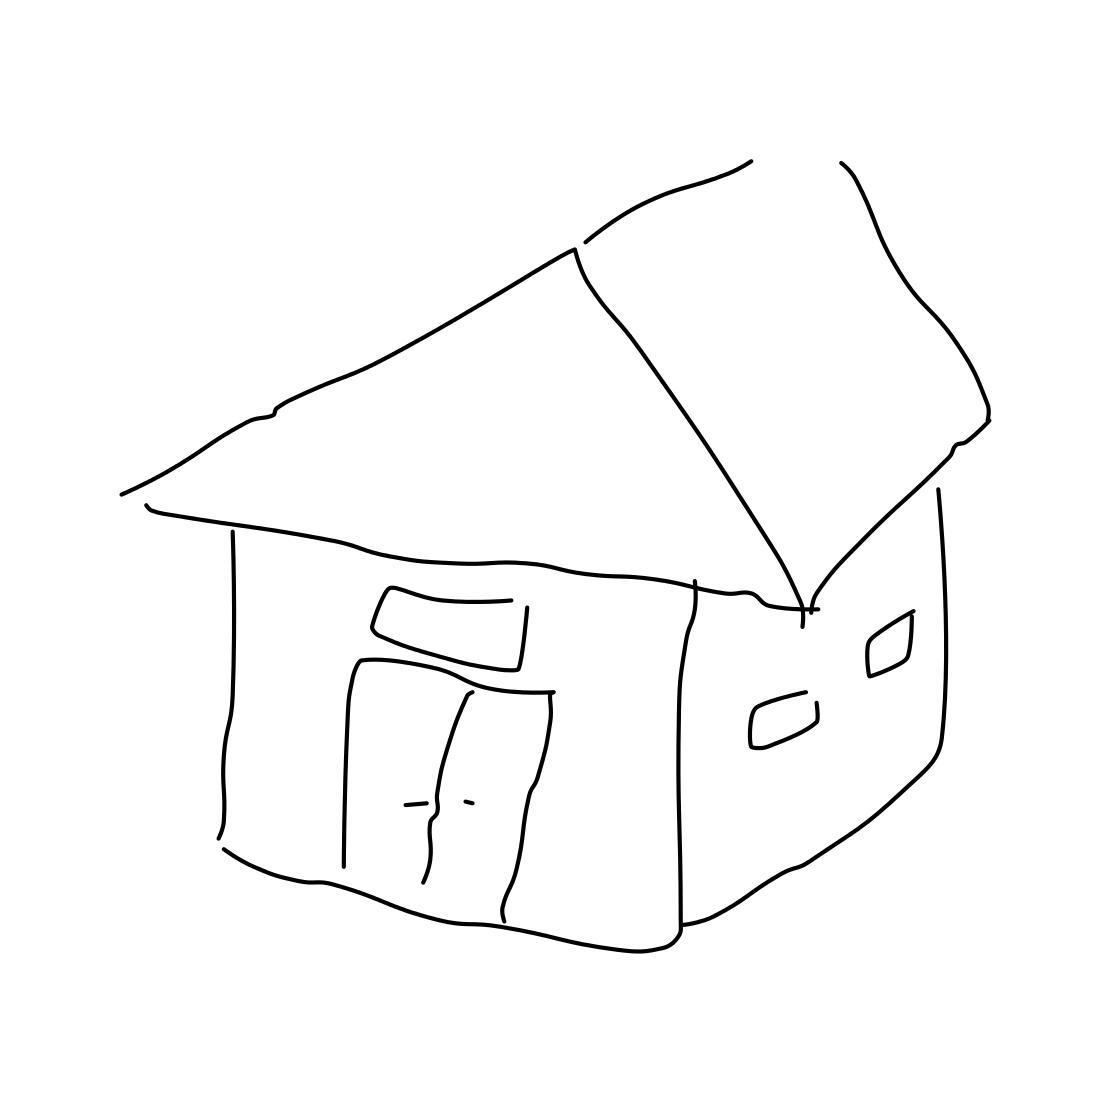House: (79, 111, 1030, 966)
